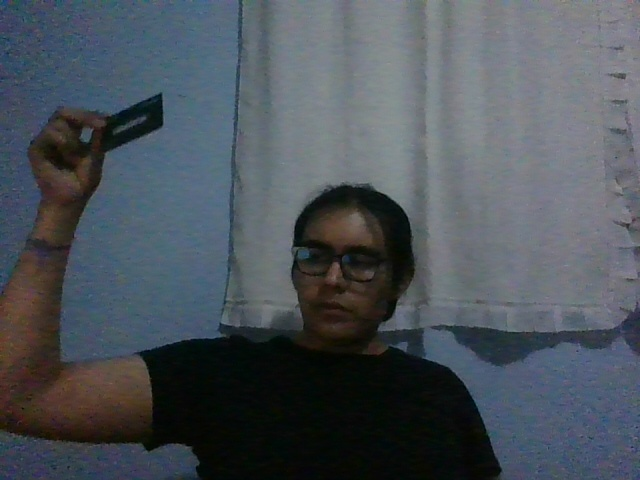tarjeta: (99, 92, 163, 153)
